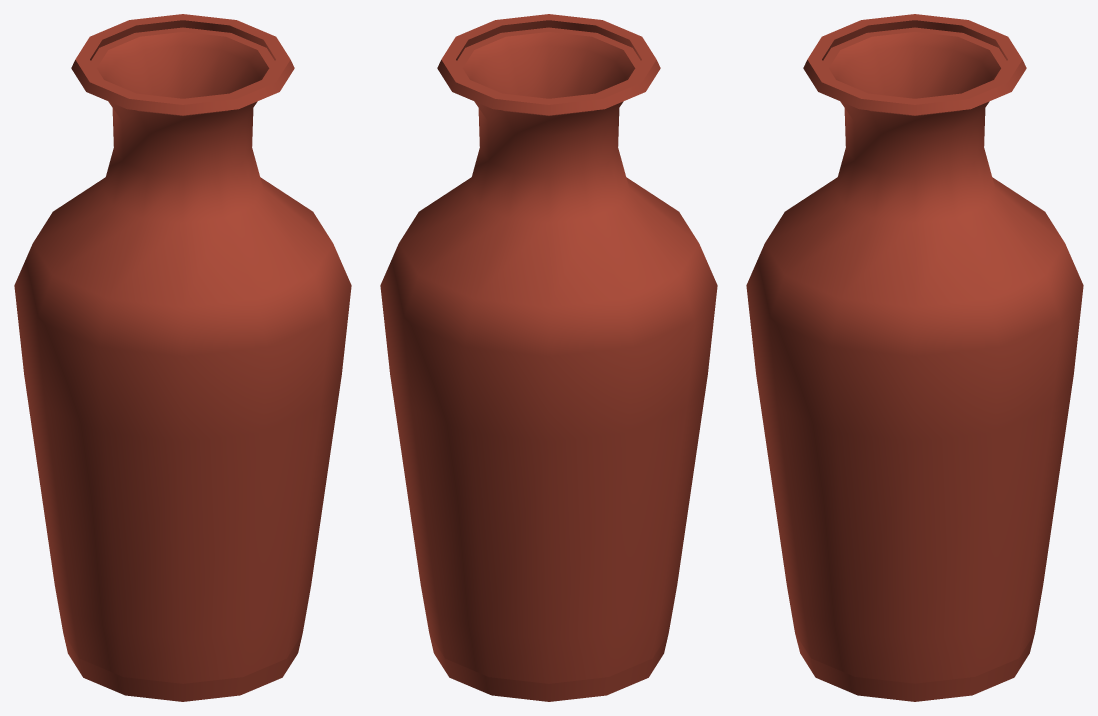
File: VaseLargeNoshatter.fbx
The picture shows the model from 3 angles, left to right: view 1: azimuth 30°, elevation 25°; view 2: azimuth 150°, elevation 25°; view 3: azimuth 270°, elevation 25°; orthographic projection.
Visible parts, largest first — view 1: VaseBig1; view 2: VaseBig1; view 3: VaseBig1.
Part boxes in pixels (x1,y1,x2,y2): VaseBig1: (14,14,351,701); VaseBig1: (380,14,717,701); VaseBig1: (746,14,1083,701).
Bounding box in the file's own units: 2.93 × 5.69 × 2.93.
